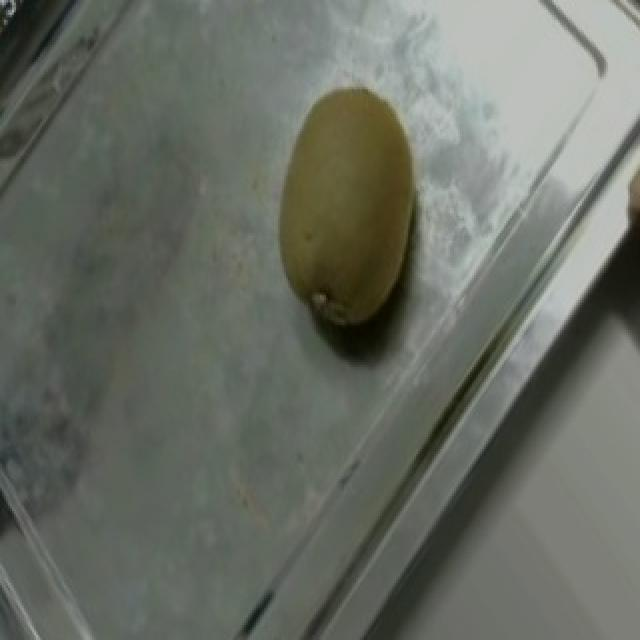Fruit: (234, 54, 464, 364)
